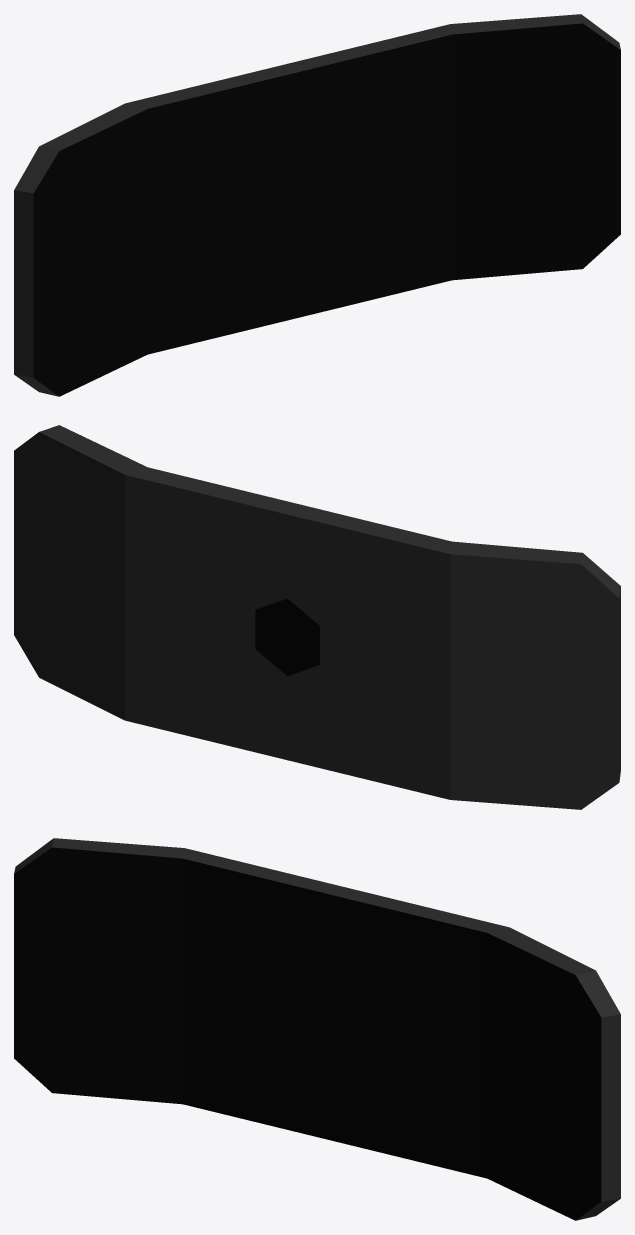
The model's file is scifi-pc.glb.
The picture shows the model from 3 angles, top to bottom: view 1: azimuth 30°, elevation 25°; view 2: azimuth 150°, elevation 25°; view 3: azimuth 330°, elevation 25°; orthographic projection.
Visible parts, largest first — view 1: scifi-pc; view 2: scifi-pc; view 3: scifi-pc.
Boxes of the visible parts, x1,y1,x2,y2 form: scifi-pc: (14,14,620,396); scifi-pc: (14,425,620,809); scifi-pc: (14,838,620,1220).
Size of the model in its own units: 1.3 by 0.5047 by 0.1473.
1 material, 1 textured.
